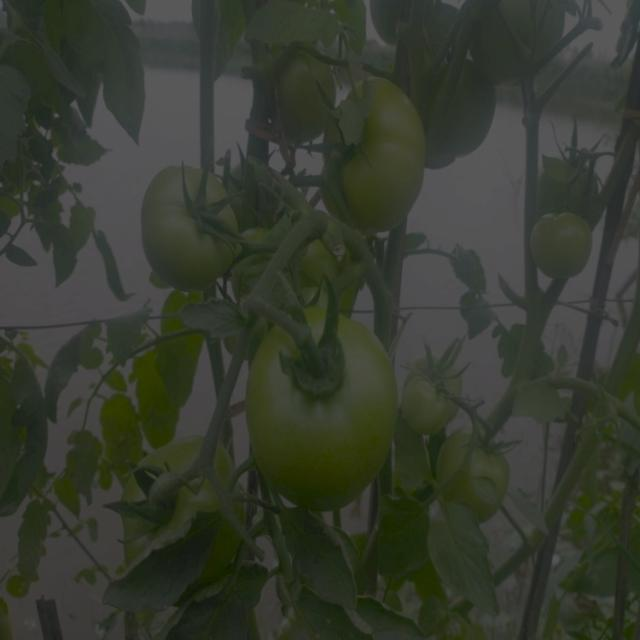tomato: (254, 304, 401, 510), (324, 77, 431, 228), (144, 156, 241, 285), (122, 430, 230, 515), (527, 213, 605, 299), (528, 137, 611, 217), (442, 423, 510, 519), (404, 341, 465, 436), (274, 51, 335, 144), (298, 230, 361, 290)
